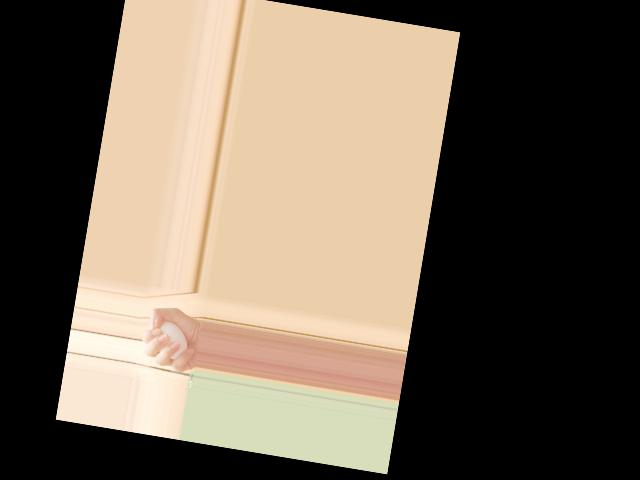egg: (152, 320, 191, 362)
